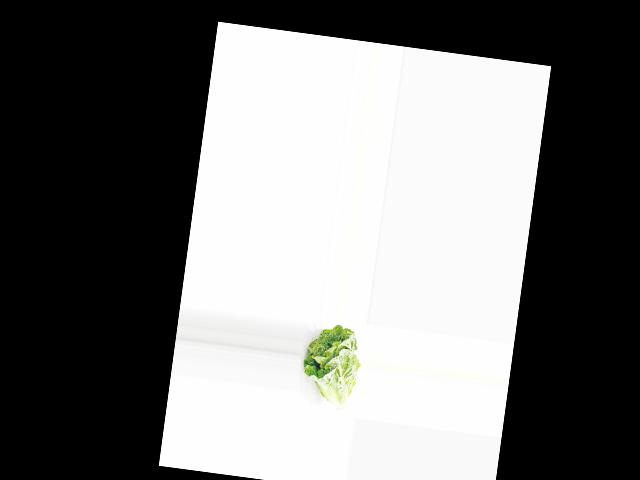lettuce: (297, 321, 366, 410)
